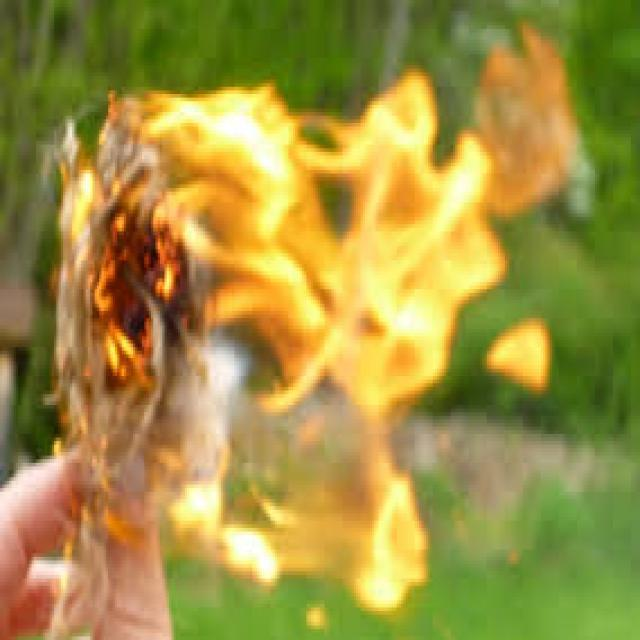fire: (124, 85, 576, 607)
